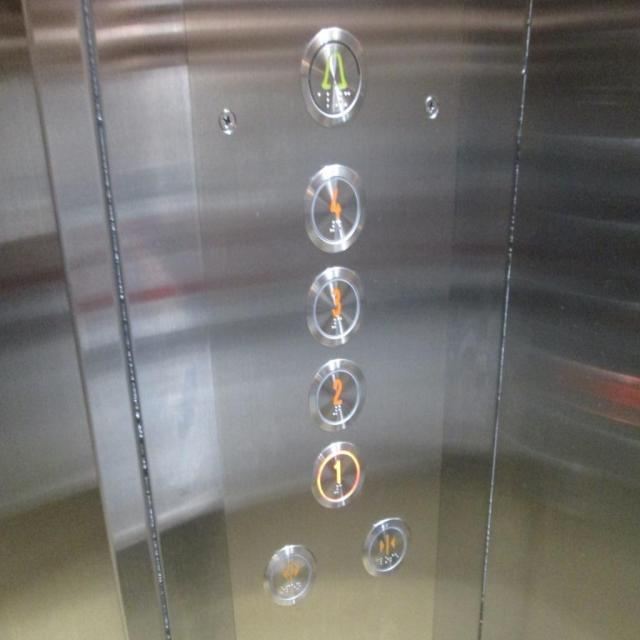1: (305, 432, 366, 516)
2: (303, 351, 370, 441)
3: (302, 262, 370, 349)
4: (298, 158, 371, 258)
alarm: (298, 21, 368, 130)
close: (359, 514, 410, 578)
open: (258, 536, 321, 612)
